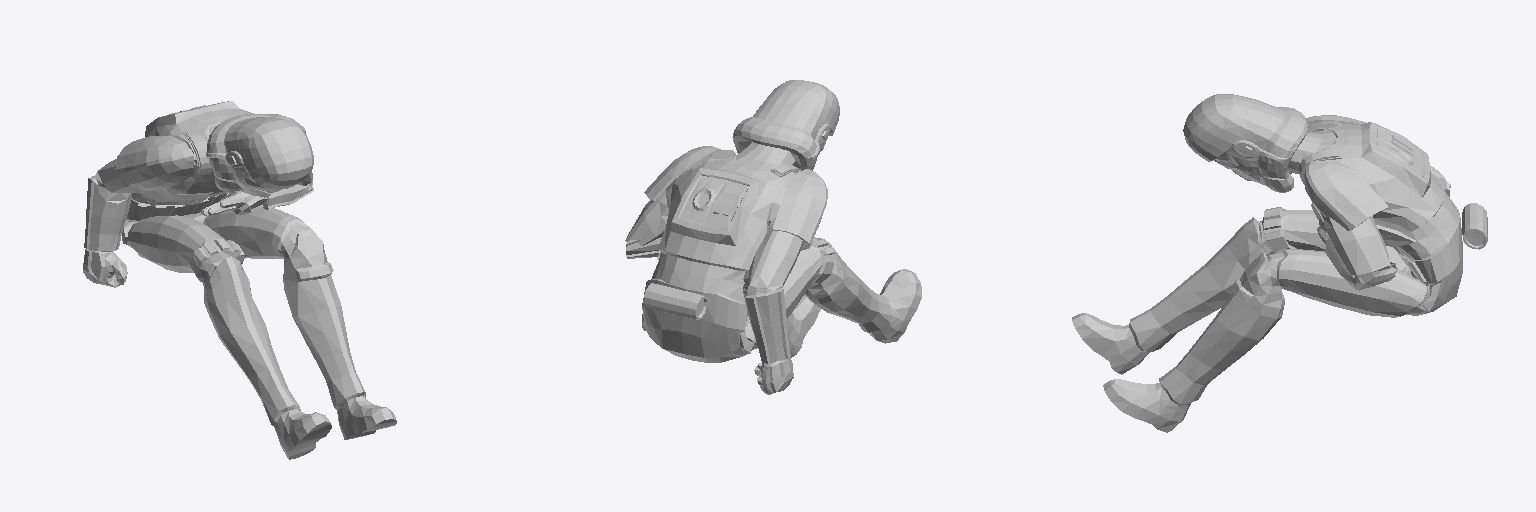
Rendered from Move_000244.obj.
The picture shows the model from 3 angles: view 1: azimuth 30°, elevation 25°; view 2: azimuth 150°, elevation 25°; view 3: azimuth 270°, elevation 25°; orthographic projection.
Bounding box in the file's own units: 1.37 × 2.09 × 2.57.